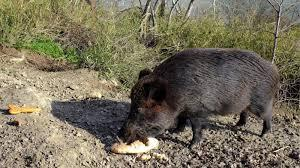wildboar: (114, 45, 281, 151)
